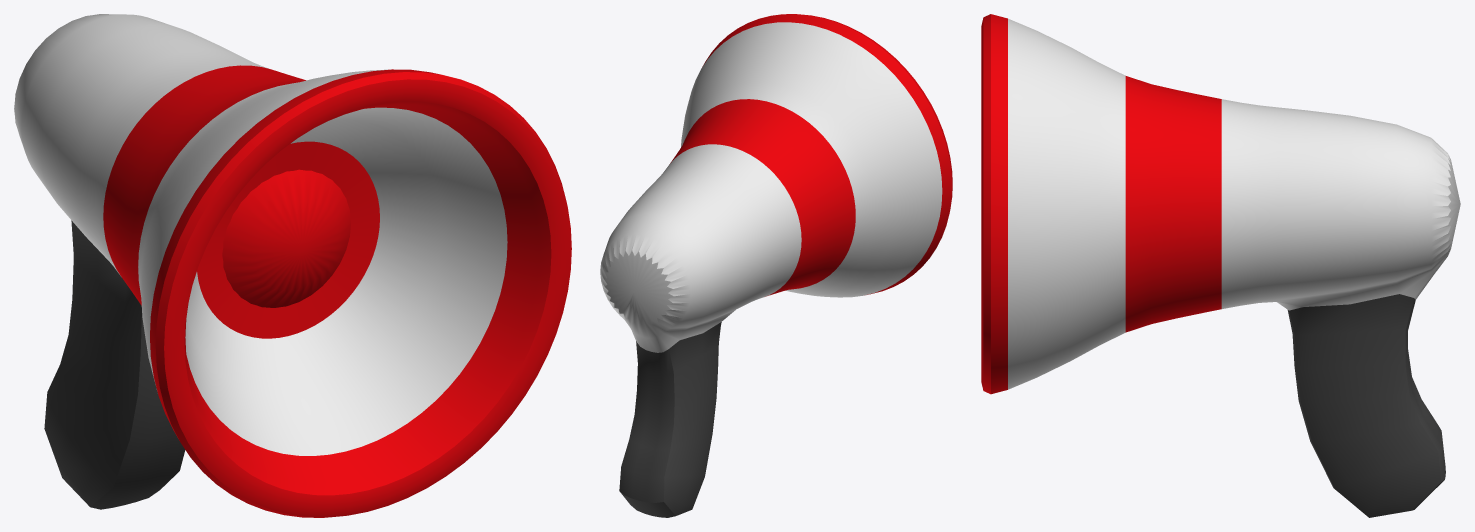
File: Megaphone.glb
3 renders of one model, left to right at view 1: azimuth 30°, elevation 25°; view 2: azimuth 150°, elevation 25°; view 3: azimuth 270°, elevation 25°, orthographic. The views are drawn at different scales.
Parts seen in each view (by area): view 1: Cylinder; view 2: Cylinder; view 3: Cylinder.
Boxes of the visible parts, x1,y1,x2,y2 form: Cylinder: [14, 14, 571, 517]; Cylinder: [600, 14, 952, 517]; Cylinder: [981, 14, 1460, 517].
Size of the model in its own units: 2.36 by 3.27 by 2.97.
